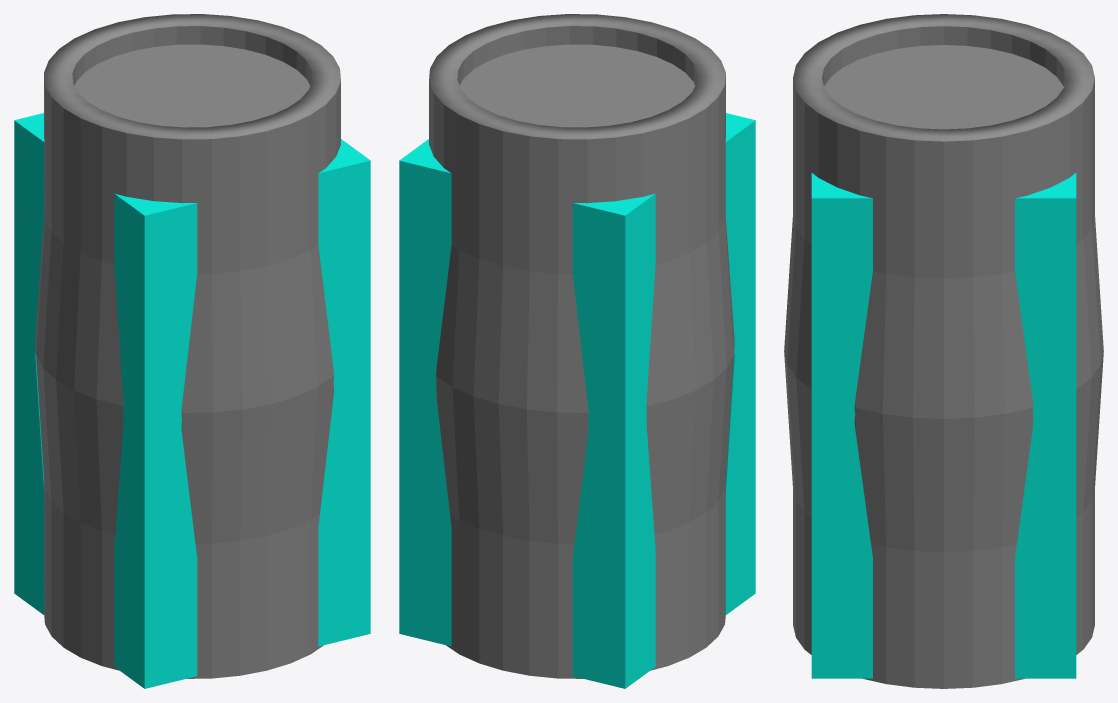
File: CyborgFacility_Barrel_001.fbx
3 views of the same model, side by side, from view 1: azimuth 30°, elevation 25°; view 2: azimuth 150°, elevation 25°; view 3: azimuth 270°, elevation 25° (orthographic).
Parts seen in each view (by area): view 1: Cylinder.002; view 2: Cylinder.002; view 3: Cylinder.002.
Part boxes in pixels (bbox=[...]): Cylinder.002: bbox=[14, 14, 370, 688]; Cylinder.002: bbox=[399, 14, 755, 688]; Cylinder.002: bbox=[784, 14, 1103, 688].
Size of the model in its own units: 212 by 400 by 212.
1 material, 1 textured.
